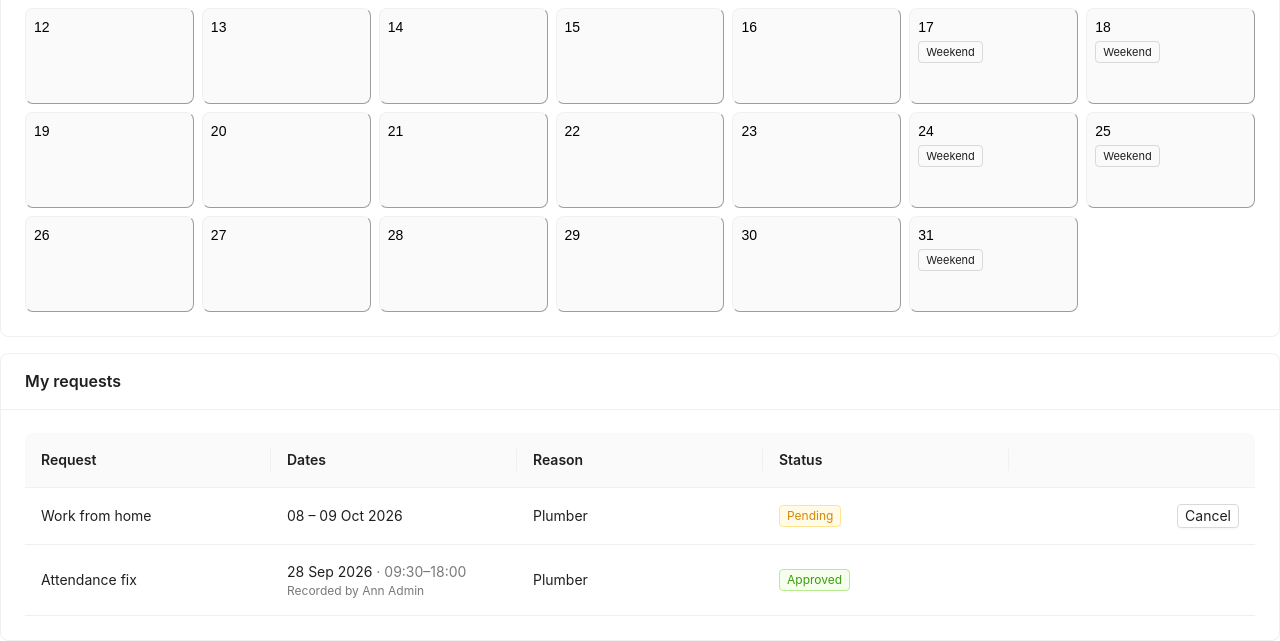
Me → Attendance › lists my requests and cancels a pending one
The image size is (1280, 641).
(page scrolled)
Expected: the text "Work from home" is shown, [25, 488, 271, 545]
Expected: the text "Recorded by Ann Admin" is shown, [287, 583, 424, 598]
Click the button "Cancel" at (1208, 516), box [1177, 504, 1239, 528]
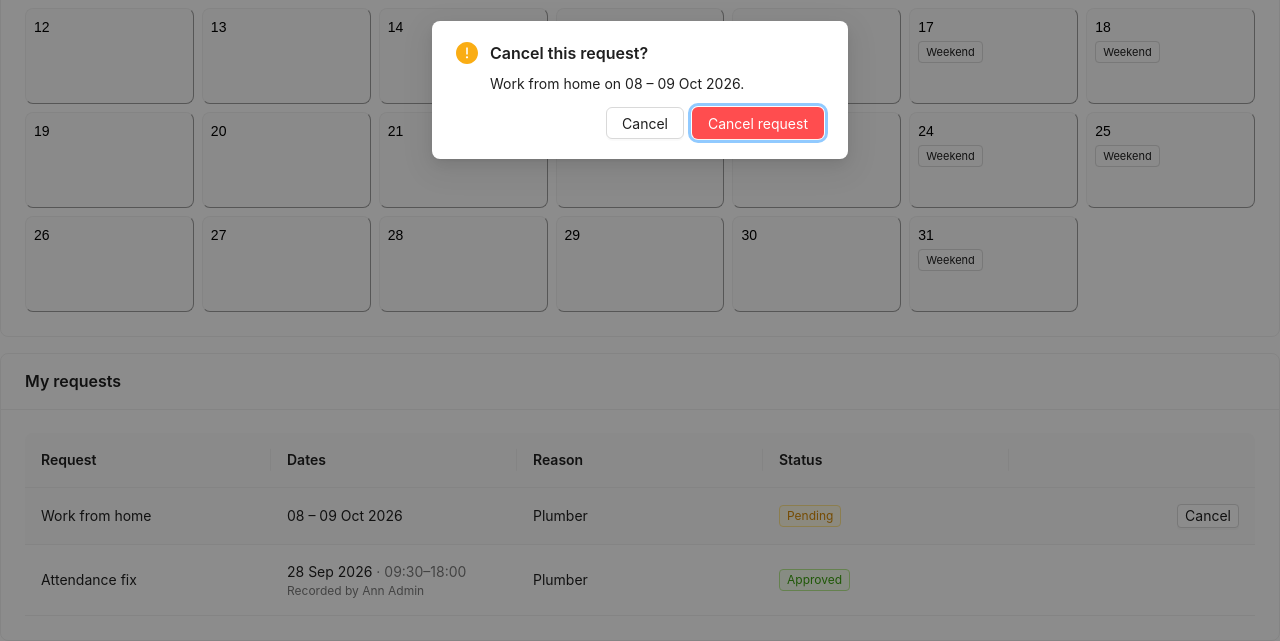
Click the button "Cancel request" at (758, 123), box [692, 107, 824, 139]
(page scrolled)
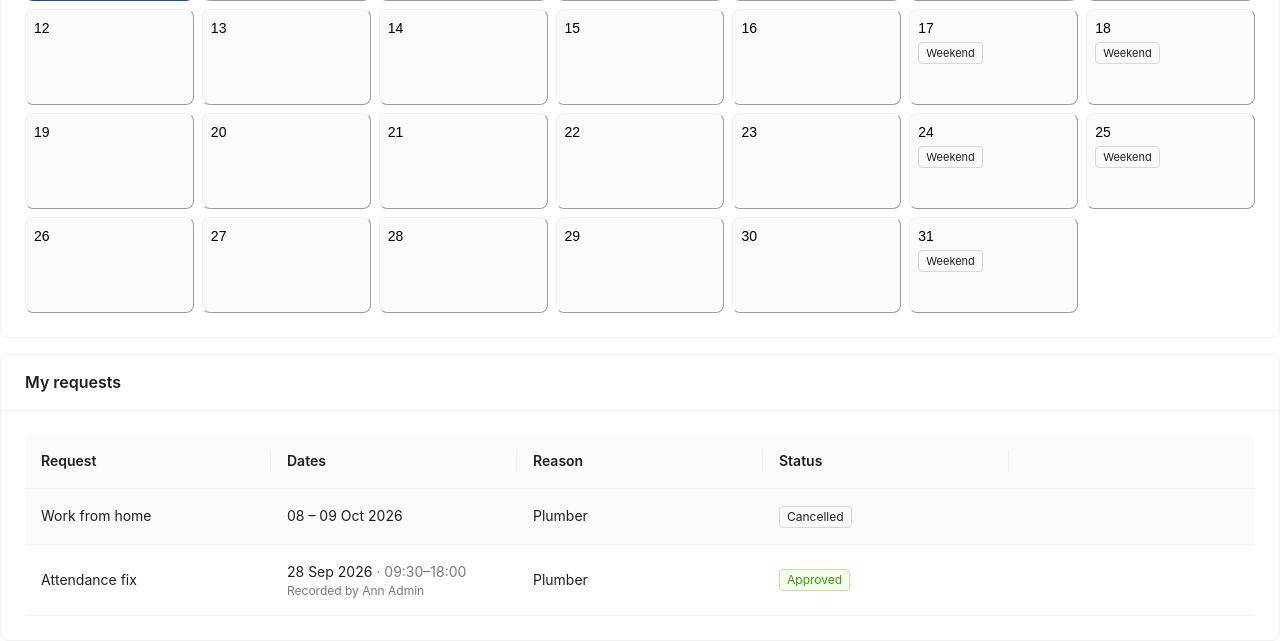
Expected: the text "Cancelled" is shown, [779, 506, 852, 528]
